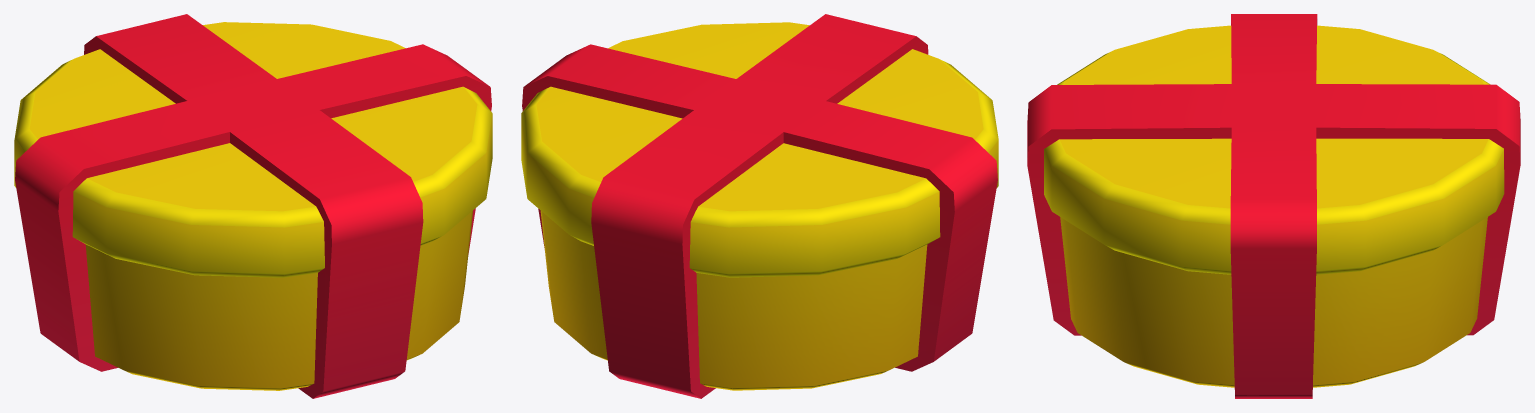
File: giftbox_052.fbx
3 views of the same model, side by side, from view 1: azimuth 30°, elevation 25°; view 2: azimuth 150°, elevation 25°; view 3: azimuth 270°, elevation 25° (orthographic).
Parts seen in each view (by area): view 1: giftbox_052; view 2: giftbox_052; view 3: giftbox_052.
Part boxes in pixels (left/top/right/bottom): giftbox_052: left=14, top=14, right=492, bottom=398; giftbox_052: left=521, top=14, right=998, bottom=398; giftbox_052: left=1027, top=14, right=1520, bottom=398.
Size of the model in its own units: 235 by 232 by 109.
